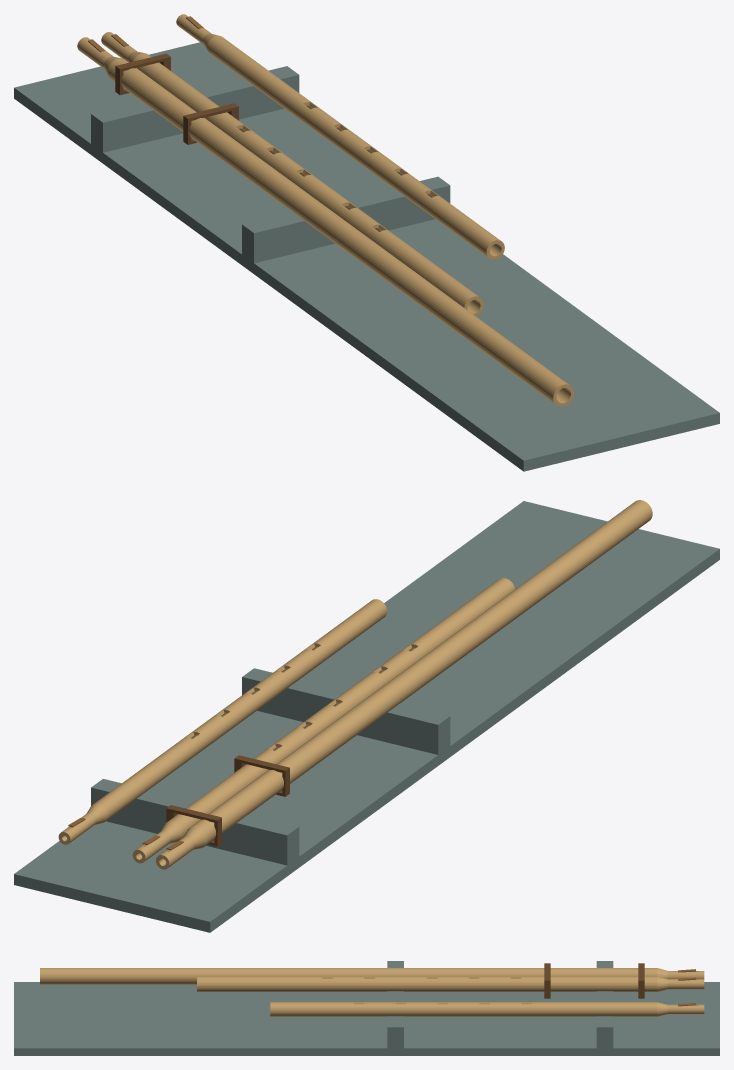
3 renders of one model, top to bottom at view 1: azimuth 30°, elevation 25°; view 2: azimuth 150°, elevation 25°; view 3: azimuth 270°, elevation 25°, orthographic. The views are drawn at different scales.
Parts seen in each view (by area): view 1: WholeLowTwinRailDisplayCarrier, WholeLongUnperforatedDrone, WholeSeparateFivePortChanter, WholeBoundFivePortChanter; view 2: WholeLowTwinRailDisplayCarrier, WholeLongUnperforatedDrone, WholeSeparateFivePortChanter, WholeBoundFivePortChanter, WholeUpperPairedPipeBinding, WholeLowerPairedPipeBinding; view 3: WholeLowTwinRailDisplayCarrier, WholeBoundFivePortChanter, WholeLongUnperforatedDrone, WholeSeparateFivePortChanter, WholeUpperPairedPipeBinding, WholeLowerPairedPipeBinding.
Boxes of the visible parts, x1,y1,x2,y2 form: WholeLowTwinRailDisplayCarrier: (14, 42, 719, 471); WholeLongUnperforatedDrone: (77, 37, 574, 406); WholeSeparateFivePortChanter: (176, 14, 504, 259); WholeBoundFivePortChanter: (101, 32, 483, 316); WholeLowTwinRailDisplayCarrier: (14, 501, 719, 932); WholeLongUnperforatedDrone: (156, 500, 652, 869); WholeSeparateFivePortChanter: (58, 599, 386, 844); WholeBoundFivePortChanter: (132, 578, 514, 863); WholeUpperPairedPipeBinding: (166, 805, 221, 846); WholeLowerPairedPipeBinding: (234, 755, 289, 796); WholeLowTwinRailDisplayCarrier: (14, 961, 719, 1055); WholeBoundFivePortChanter: (197, 976, 704, 991); WholeLongUnperforatedDrone: (40, 968, 704, 984); WholeSeparateFivePortChanter: (270, 1002, 704, 1016); WholeUpperPairedPipeBinding: (638, 963, 644, 998); WholeLowerPairedPipeBinding: (544, 963, 550, 998).
Bounding box in the file's own units: 0.15 × 0.0445 × 0.675.
